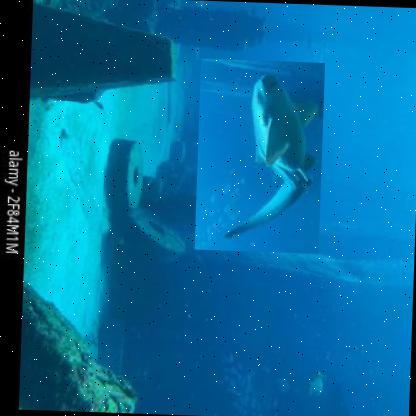zebra_shark: (193, 58, 326, 254)
